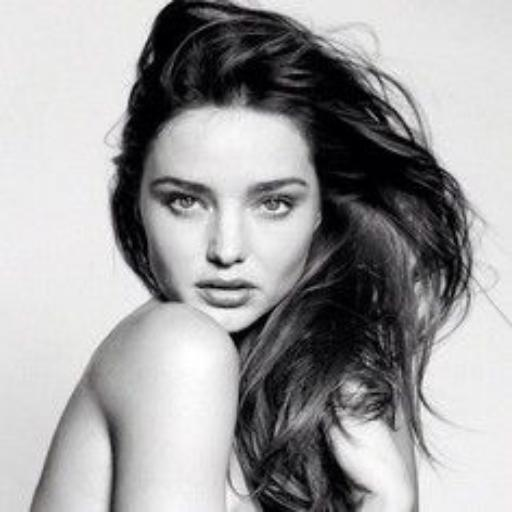left_eye: (254, 195, 301, 220)
left_lip_corner: (250, 281, 266, 298)
right_eye: (163, 193, 210, 217)
right_lip_corner: (192, 280, 208, 296)
